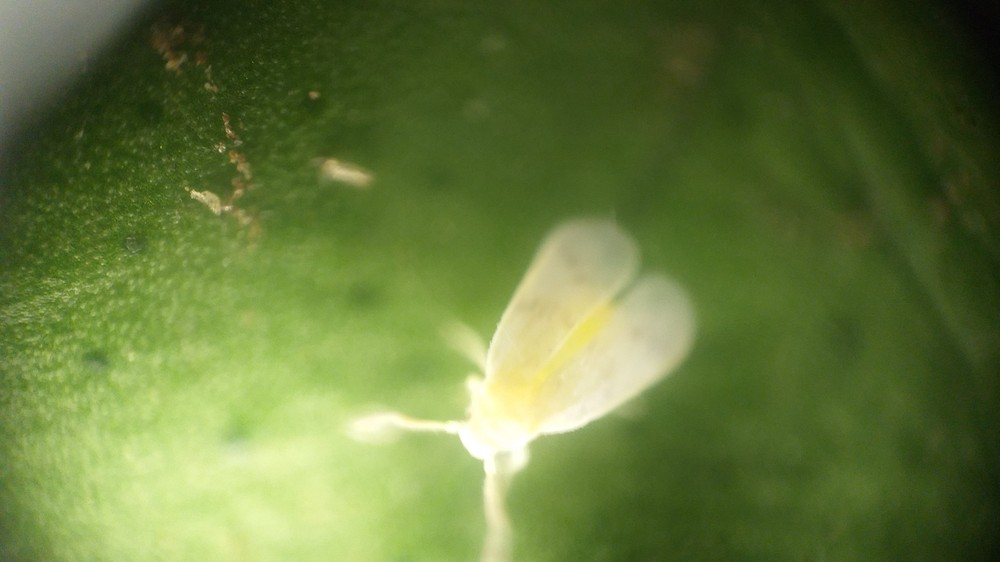Mosca Blanca: (364, 213, 715, 550)
